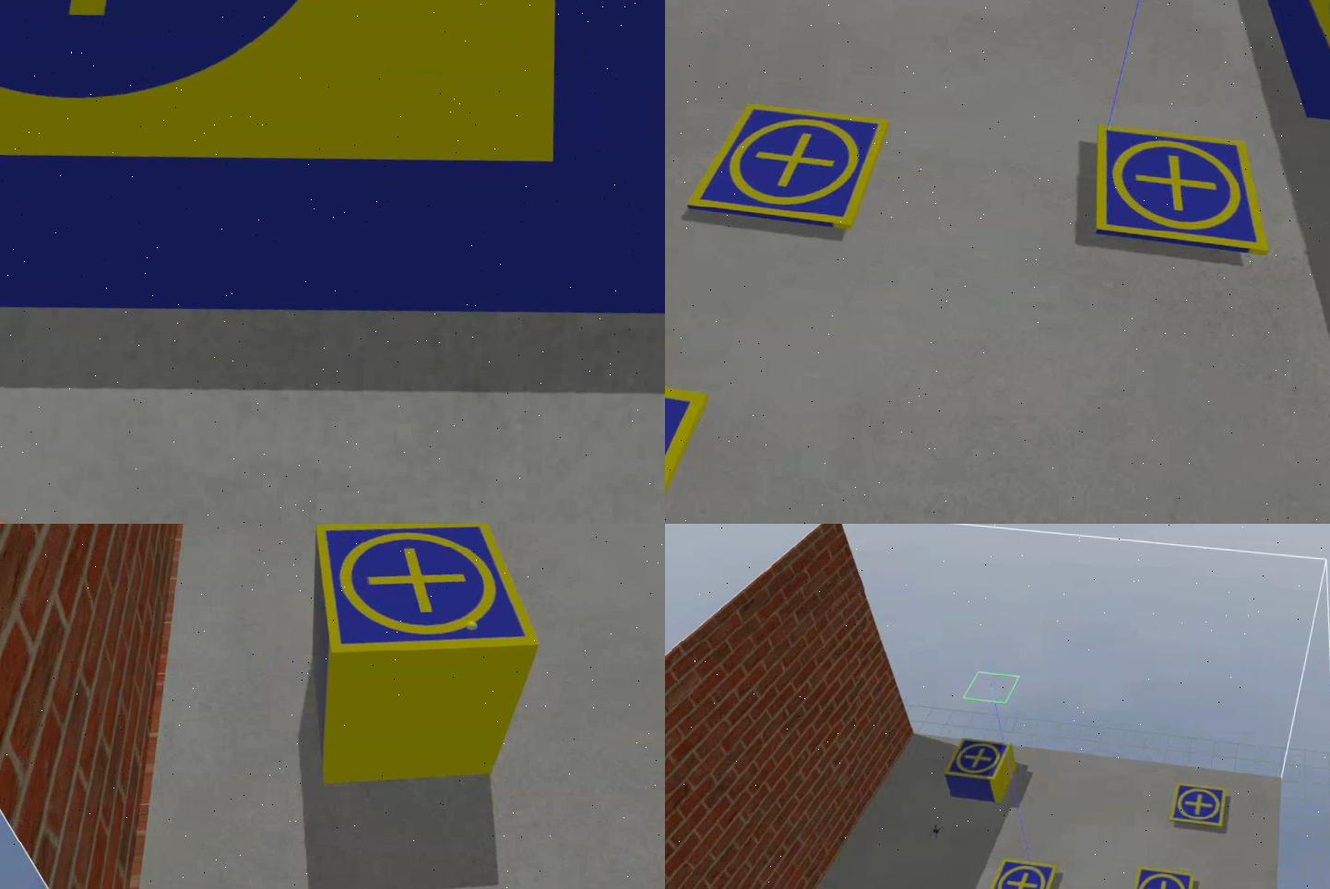large_base: (1, 1, 666, 350)
small_base: (308, 525, 547, 672), (683, 90, 893, 237), (1089, 123, 1278, 261), (946, 738, 1014, 779), (1170, 783, 1229, 830), (986, 859, 1058, 889), (1131, 866, 1195, 889)
